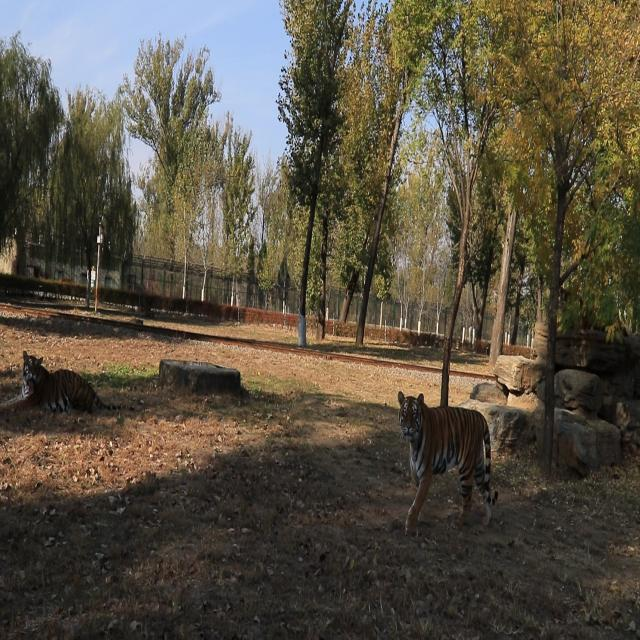Tiger: (392, 383, 506, 540), (0, 346, 133, 416)
